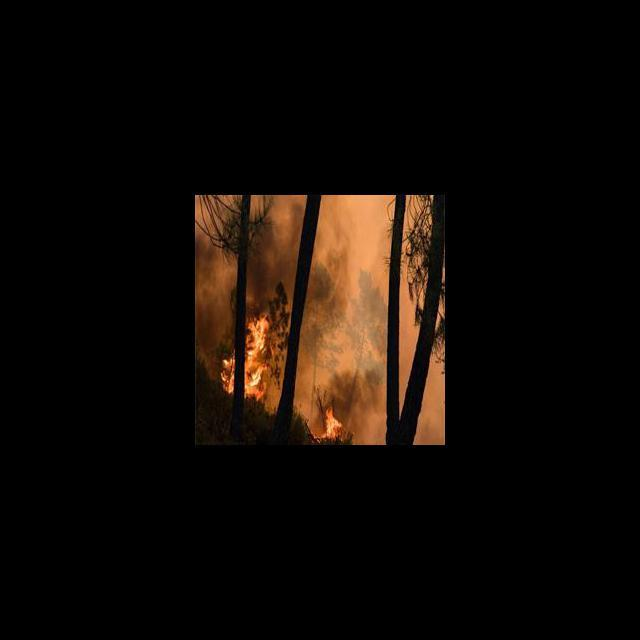Fire: (216, 294, 287, 402), (313, 406, 348, 441)
